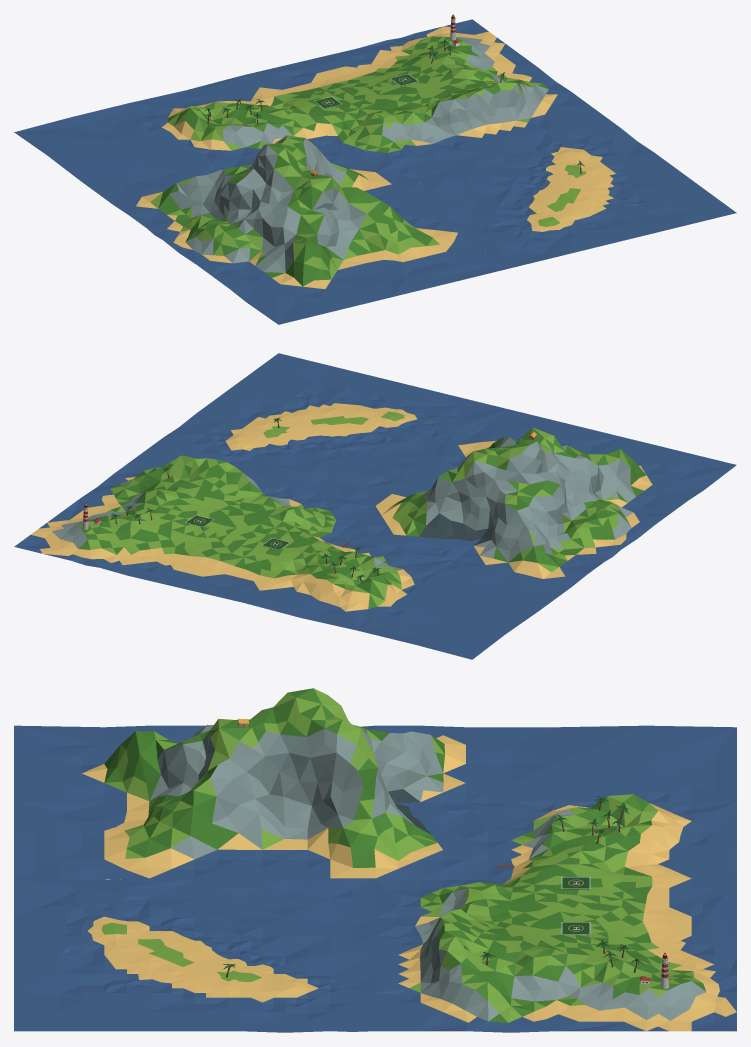
The model's file is game_map_1.glb.
The picture shows the model from 3 angles, top to bottom: view 1: azimuth 30°, elevation 25°; view 2: azimuth 150°, elevation 25°; view 3: azimuth 270°, elevation 25°; orthographic projection. The views are drawn at different scales.
Visible parts, largest first — view 1: water, terrain.001 -col; view 2: water, terrain.001 -col; view 3: water, terrain.001 -col.
Part boxes in pixels (<box>): water: <box>14,19,736,324</box>; terrain.001 -col: <box>136,26,616,288</box>; water: <box>14,353,736,659</box>; terrain.001 -col: <box>31,403,652,611</box>; water: <box>14,725,736,1032</box>; terrain.001 -col: <box>82,688,736,1031</box>.
Size of the model in its own units: 500 by 84.15 by 500.
Materials: 8 (8 with a texture image).
